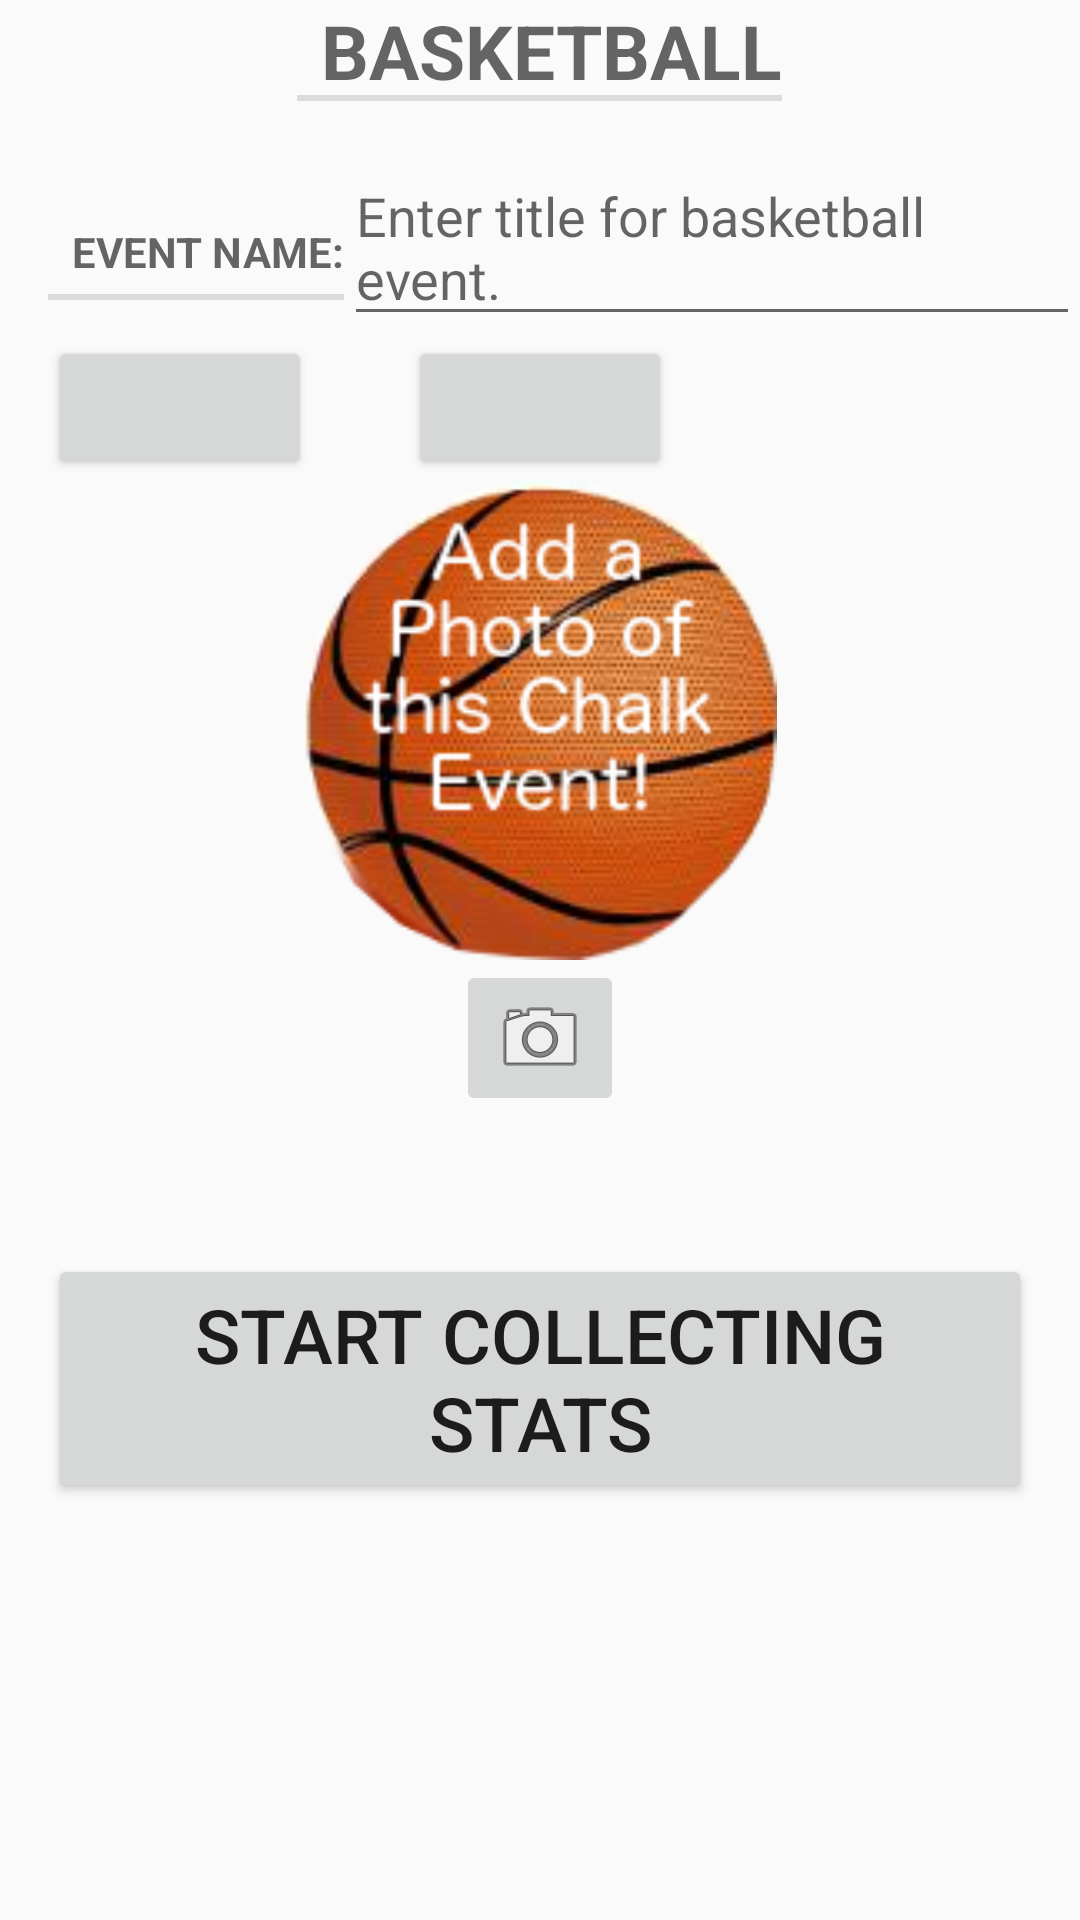

Locate icon controls on the screen. Image size 1080 x 1920, boxes as (x1,y1,x2,y2).
camera: (468,978,612,1098)
